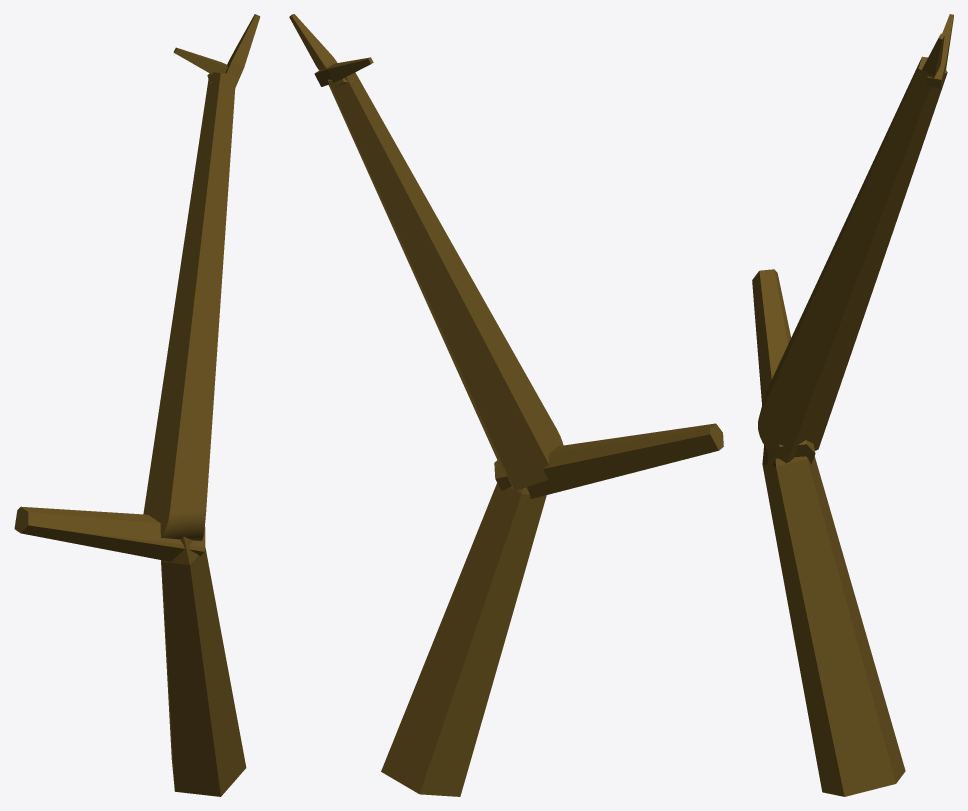
File: branch.fbx
The picture shows the model from 3 angles, left to right: view 1: azimuth 30°, elevation 25°; view 2: azimuth 150°, elevation 25°; view 3: azimuth 270°, elevation 25°; orthographic projection. The views are drawn at different scales.
Visible parts, largest first — view 1: Body5; view 2: Body5; view 3: Body5.
Part boxes in pixels (x1=…): Body5: x1=14, y1=14, x2=260, y2=796; Body5: x1=289, y1=14, x2=723, y2=796; Body5: x1=752, y1=14, x2=953, y2=796.
Bounding box in the file's own units: 33.88 × 72.76 × 16.49.
